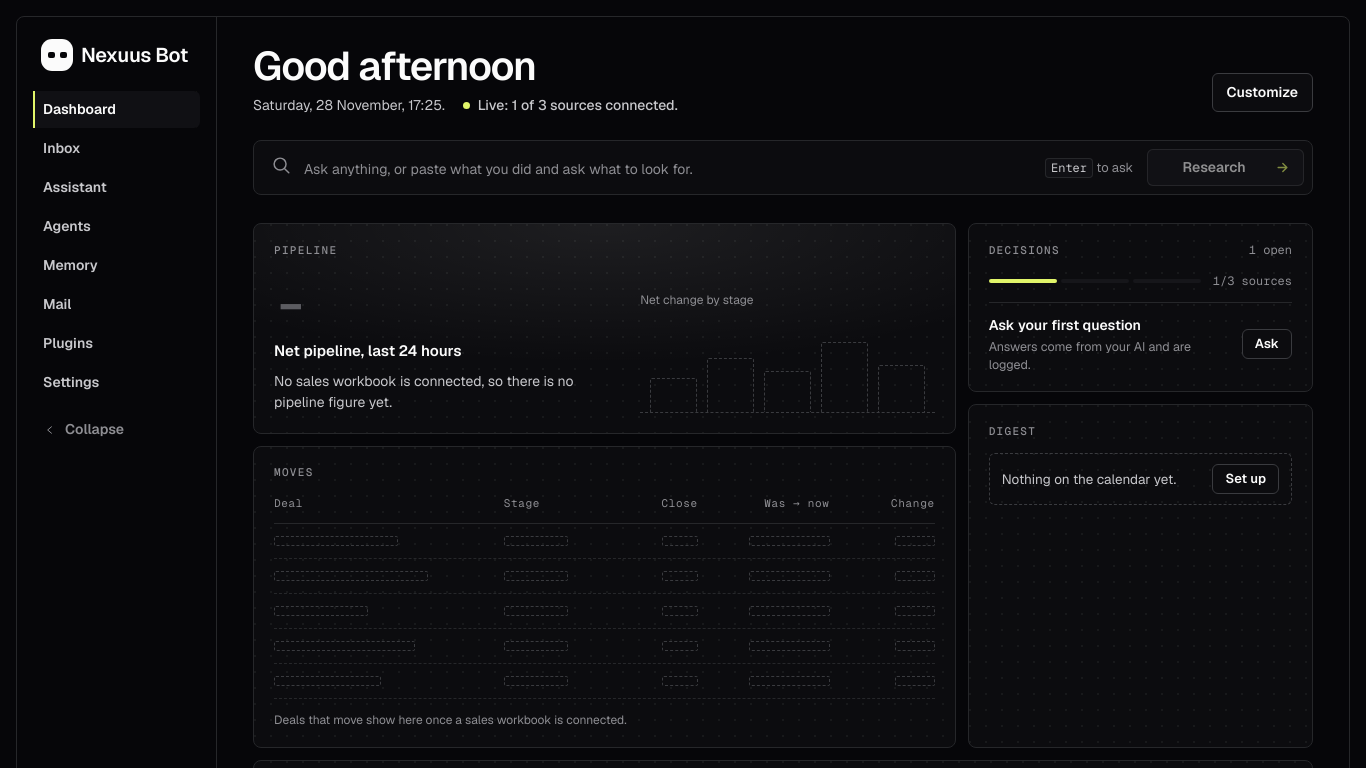
customize mode › opens with its own pending control and a panel skeleton, not a pop-in
Later steps or results of the test are not shown.
Click the button "Customize".
click(1262, 92)  # box [1212,73,1313,112]
Wait 100 ms
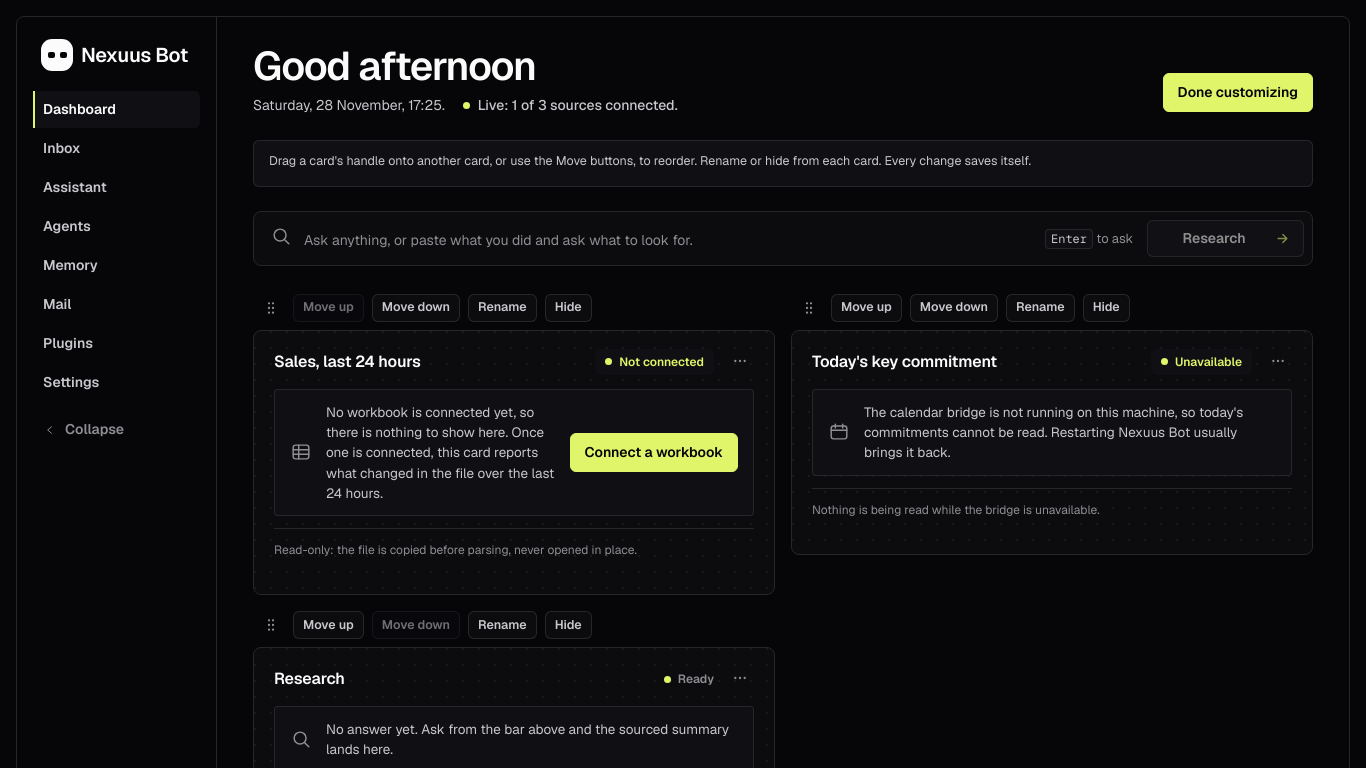
Result: the button "Done customizing" is shown at [1163,73,1313,112]
Result: the text "Every change saves itself" is shown at [269,152,1031,169]
